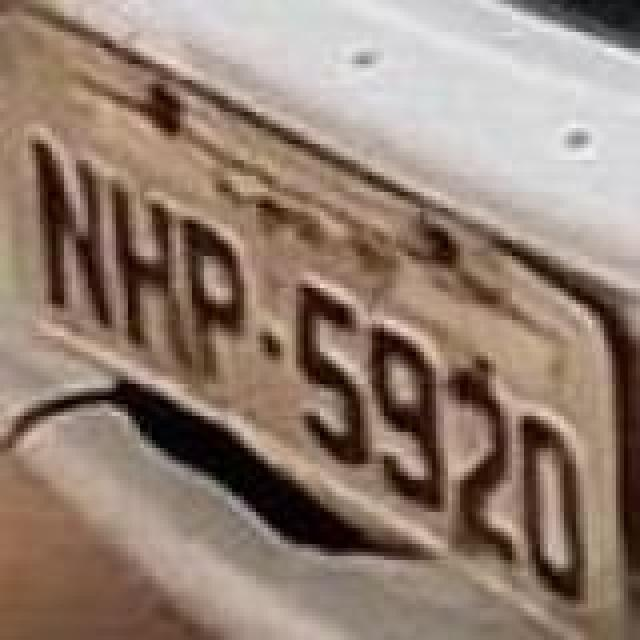2: (442, 370, 518, 574)
5: (294, 280, 378, 472)
9: (366, 320, 450, 512)
H: (108, 176, 188, 368)
N: (28, 132, 116, 332)
O: (518, 404, 594, 604)
P: (180, 212, 252, 380)
